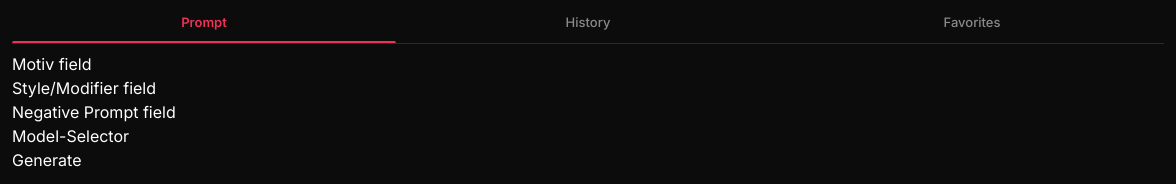
Test: Prompt Tabs Container › AC-6: should display placeholder text "Prompt history will appear here." in History tab
Note: Switch to History tab
Step 1. Click the tab with test id "tab-history" → (588, 27), box [396,12,780,42]
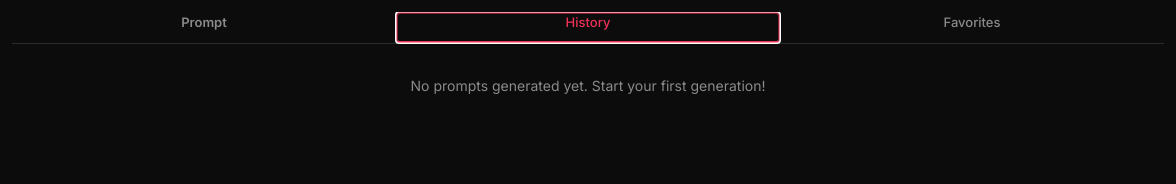
Expected: the text "No prompts generated yet. Start your first generation!" is shown, [410,76,765,94]
